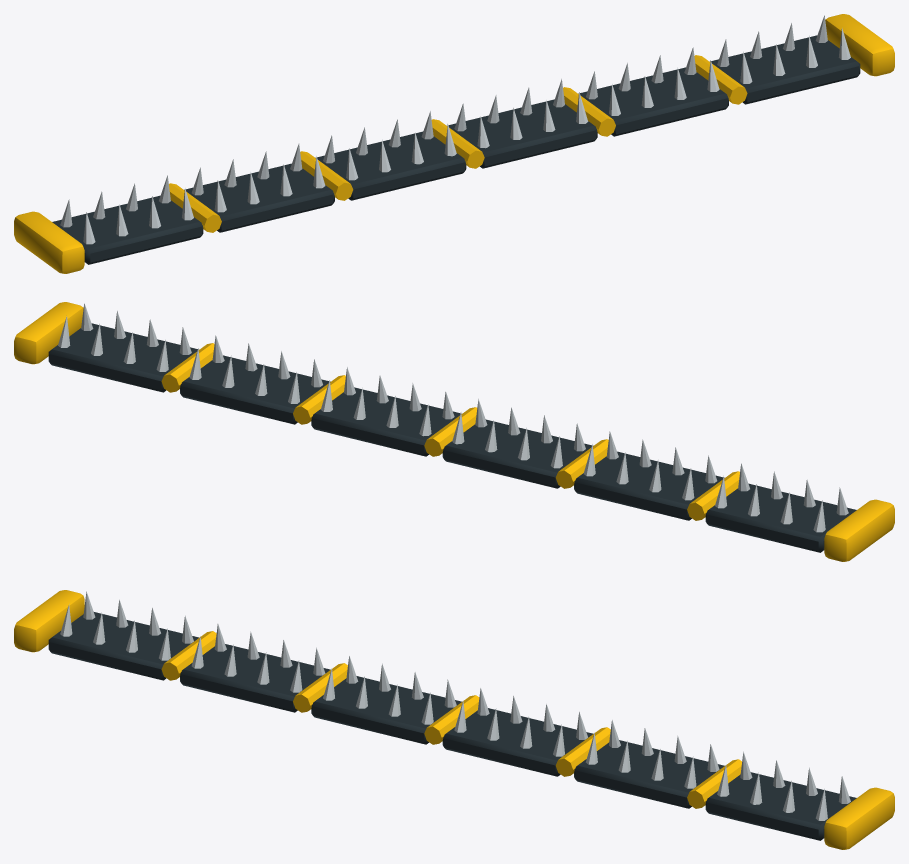
Rendered from streets_spikes.glb.
The picture shows the model from 3 angles, top to bottom: view 1: azimuth 30°, elevation 25°; view 2: azimuth 150°, elevation 25°; view 3: azimuth 330°, elevation 25°; orthographic projection.
Visible parts, largest first — view 1: Spikes_body; view 2: Spikes_body; view 3: Spikes_body.
Boxes of the visible parts, x1,y1,x2,y2 form: Spikes_body: (14,14,894,273); Spikes_body: (14,302,894,561); Spikes_body: (14,590,894,849).
Bounding box in the file's own units: 3.82 × 0.194 × 0.4.
